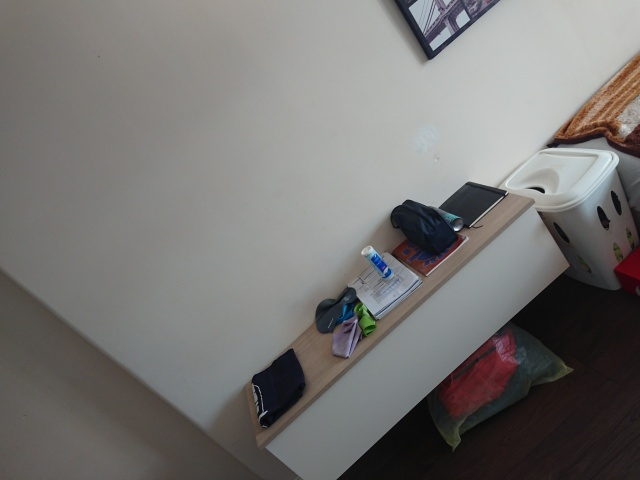Solana Pag Fine Sea Salt 250g: (359, 243, 398, 284)
